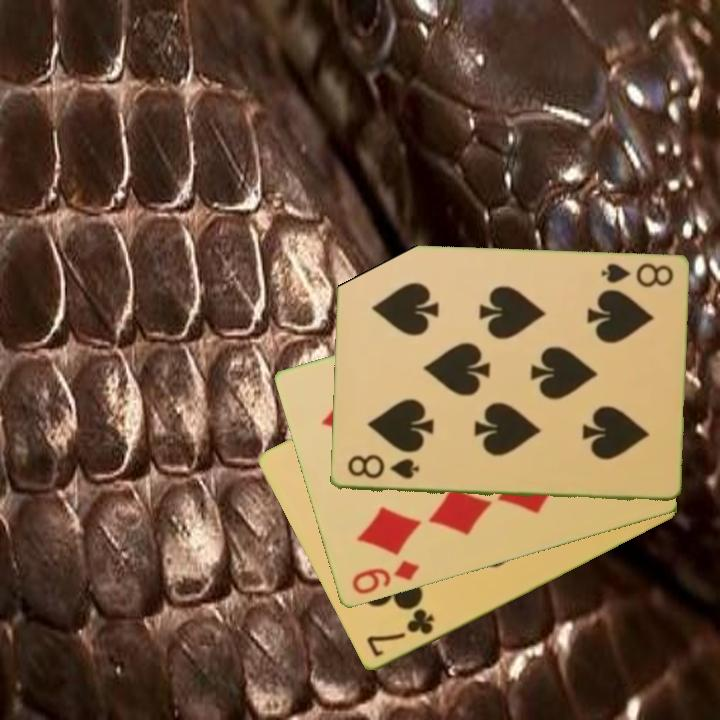7c: (362, 606, 437, 661)
8s: (597, 260, 676, 291), (343, 452, 421, 482)
9d: (348, 557, 422, 598)
